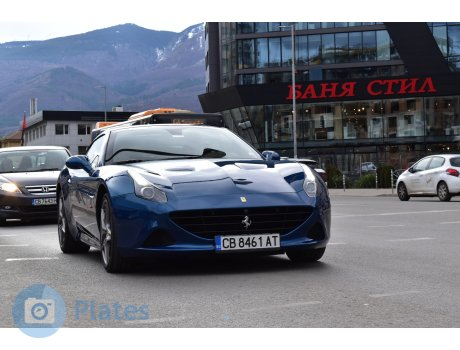registration_plate: (215, 234, 281, 253), (30, 198, 60, 206)
